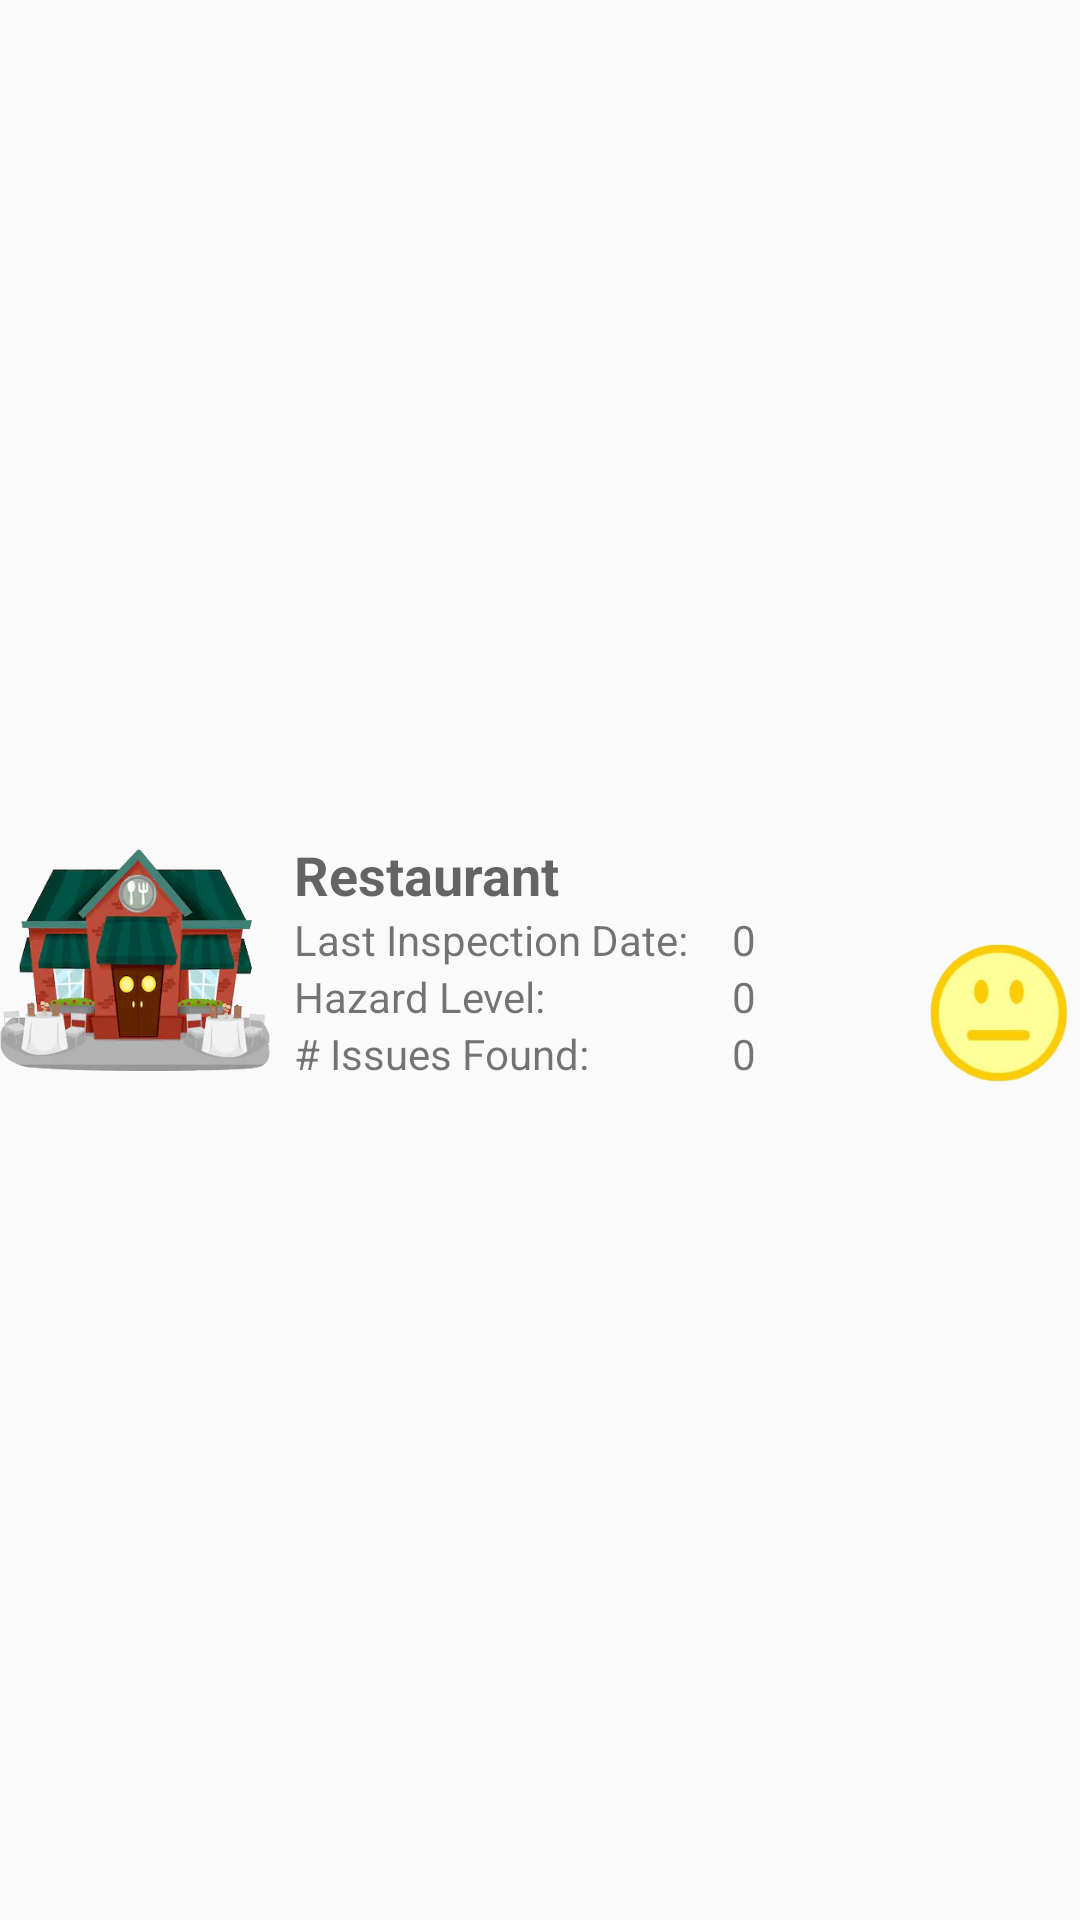

Where to tap for icons on this 1080w x 1920h app screen, as (x,y):
hazard level: (999,1013)
